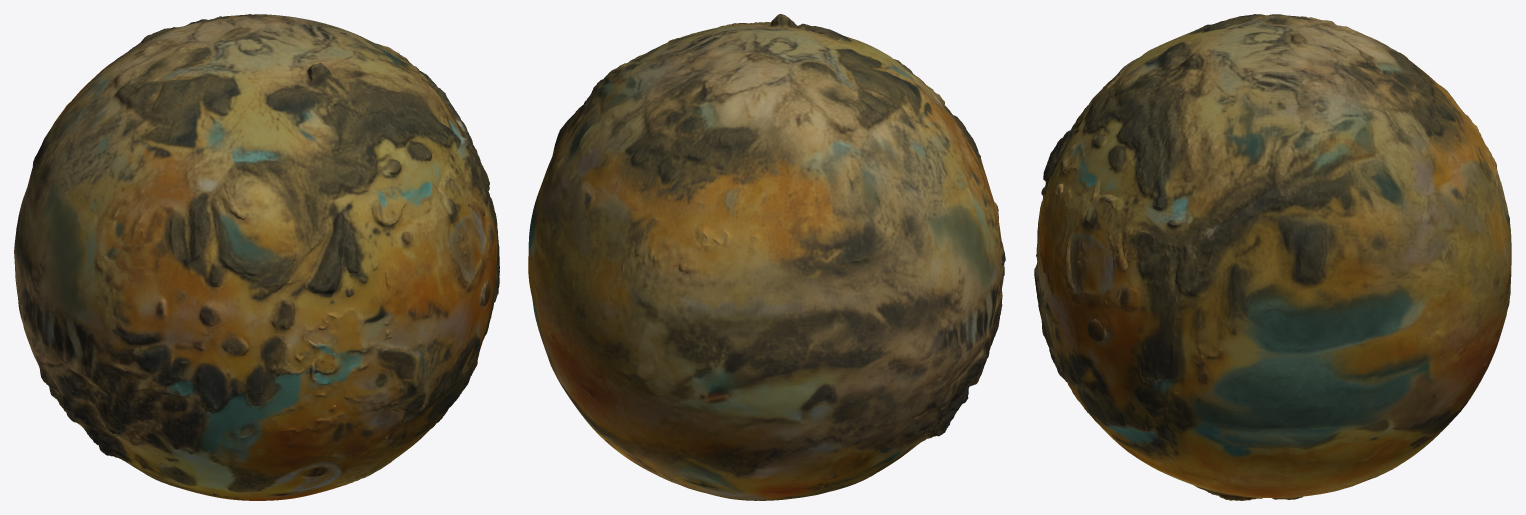
3 renders of one model, left to right at view 1: azimuth 30°, elevation 25°; view 2: azimuth 150°, elevation 25°; view 3: azimuth 270°, elevation 25°, orthographic.
Parts seen in each view (by area): view 1: world; view 2: world; view 3: world.
Part boxes in pixels (x1=…): world: x1=14, y1=14, x2=499, y2=500; world: x1=528, y1=14, x2=1005, y2=500; world: x1=1034, y1=14, x2=1511, y2=500.
Size of the model in its own units: 0.996 by 1 by 0.9928.
1 material, 1 textured.
